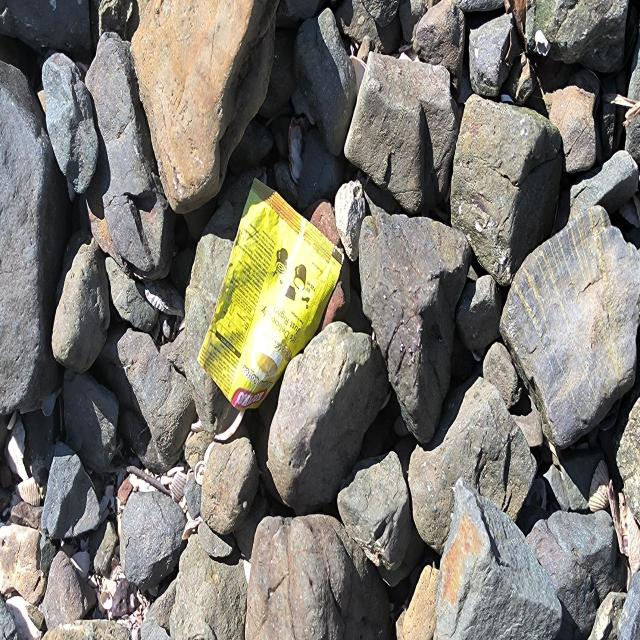plastic_waste: (198, 177, 346, 414)
